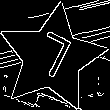L_SW: (27, 29, 77, 87)
